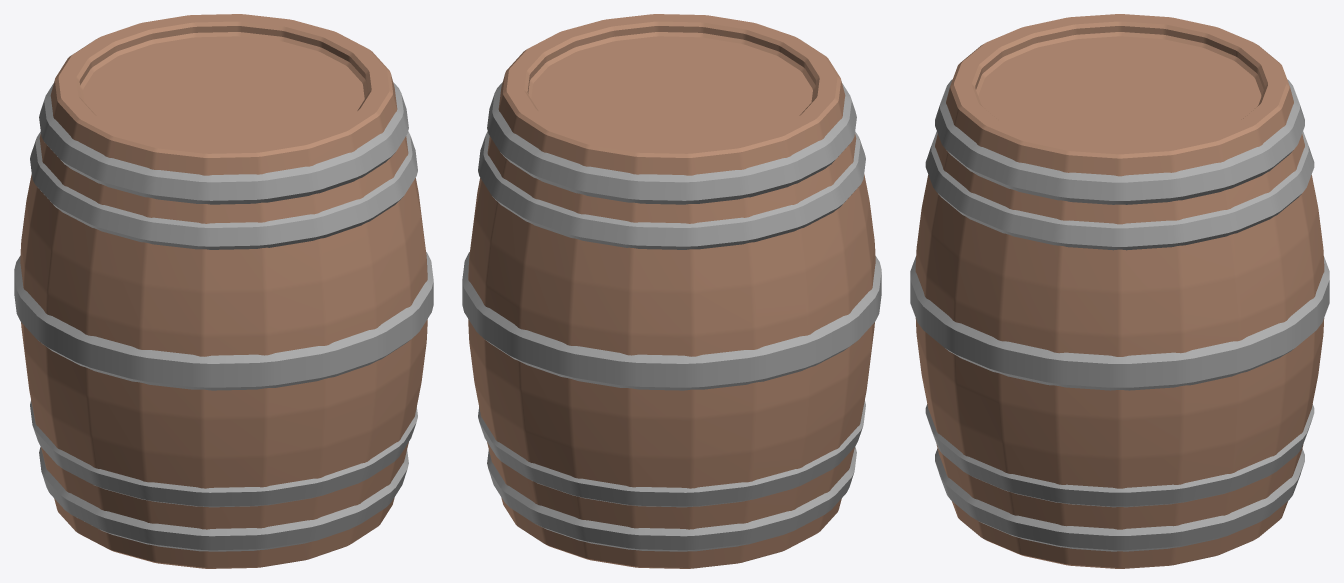
Rendered from Barrel.fbx.
The picture shows the model from 3 angles, left to right: view 1: azimuth 30°, elevation 25°; view 2: azimuth 150°, elevation 25°; view 3: azimuth 270°, elevation 25°; orthographic projection.
Visible parts, largest first — view 1: pCylinder36; view 2: pCylinder36; view 3: pCylinder36.
Part boxes in pixels (x1,y1,x2,y2): pCylinder36: (14, 14, 433, 568); pCylinder36: (462, 14, 881, 568); pCylinder36: (910, 14, 1329, 568).
Bounding box in the file's own units: 215 × 235 × 215.
